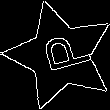P_W: (30, 31, 91, 81)
